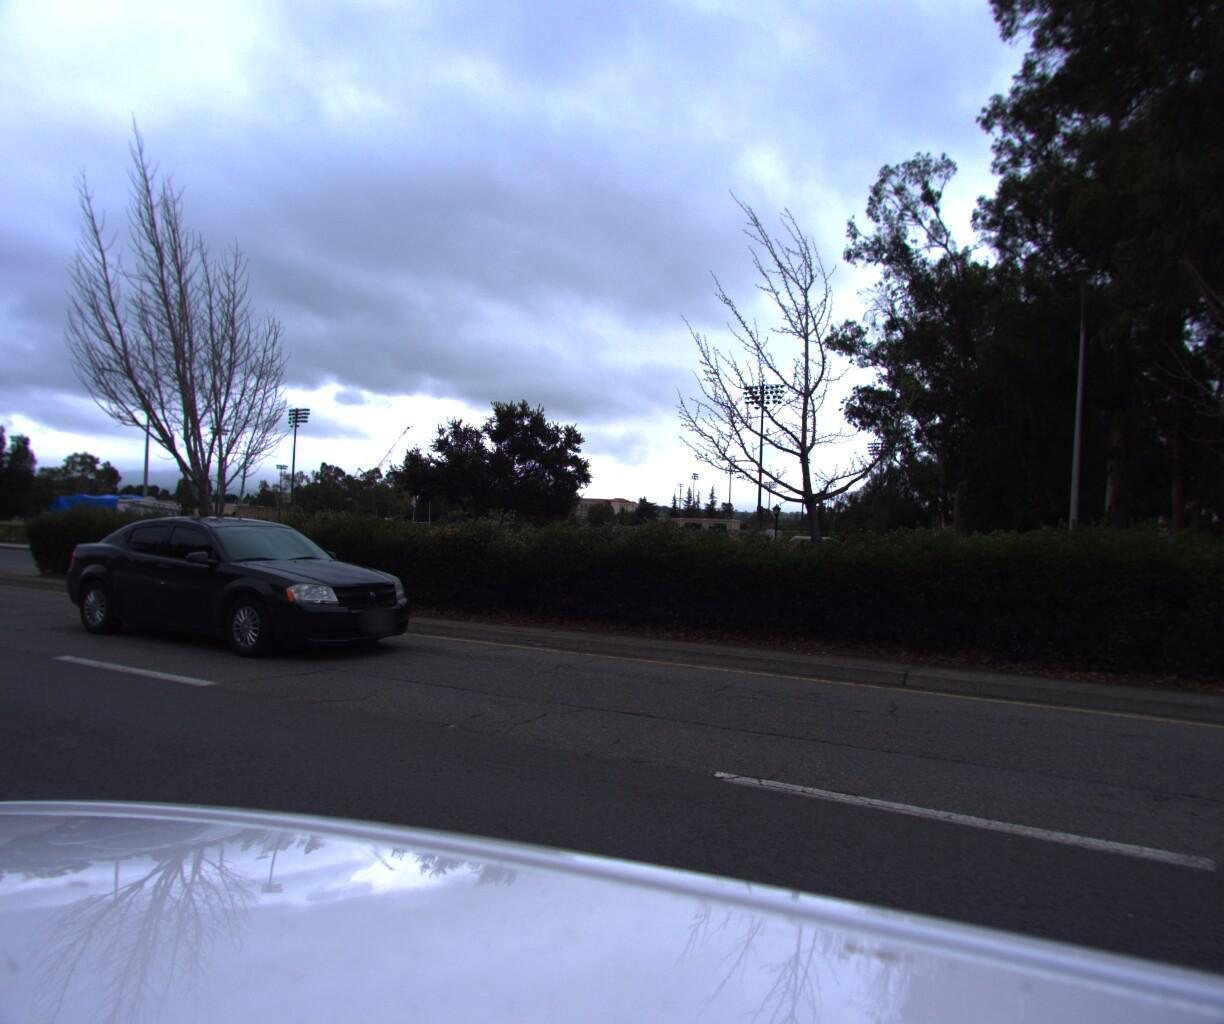car: (49, 516, 428, 672), (676, 530, 902, 623)
other_vehicle: (41, 492, 186, 564)
